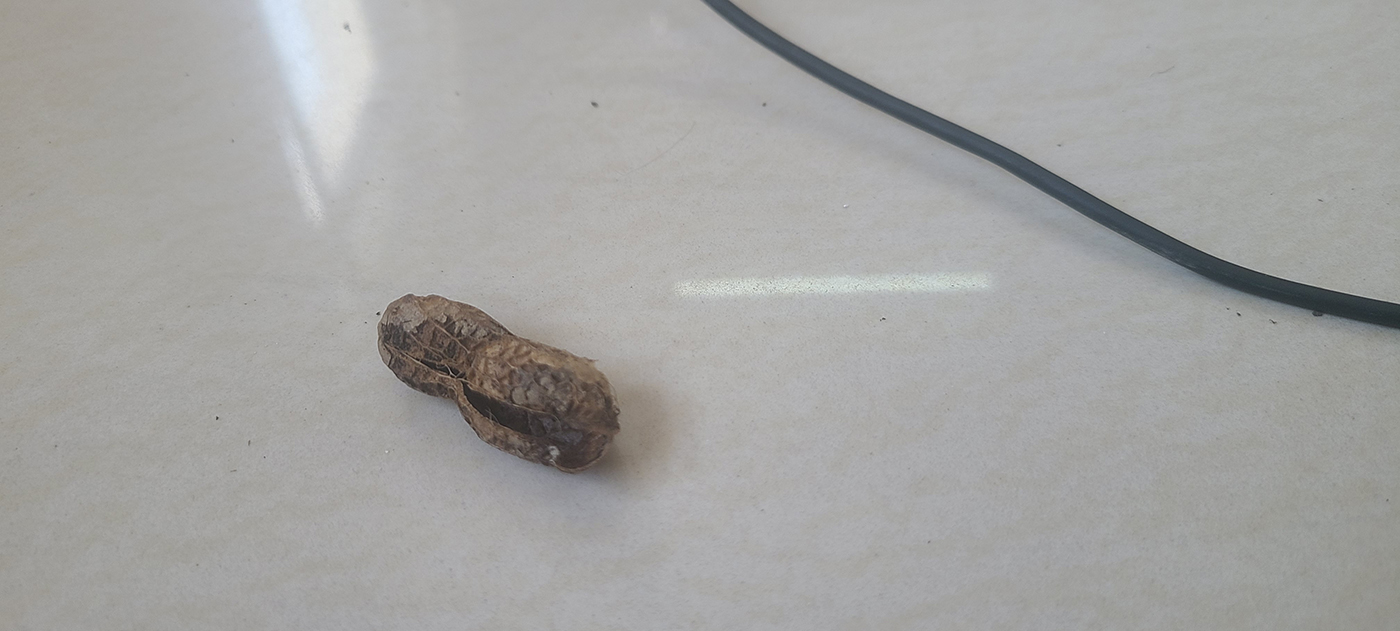l: (377, 294, 617, 465)
